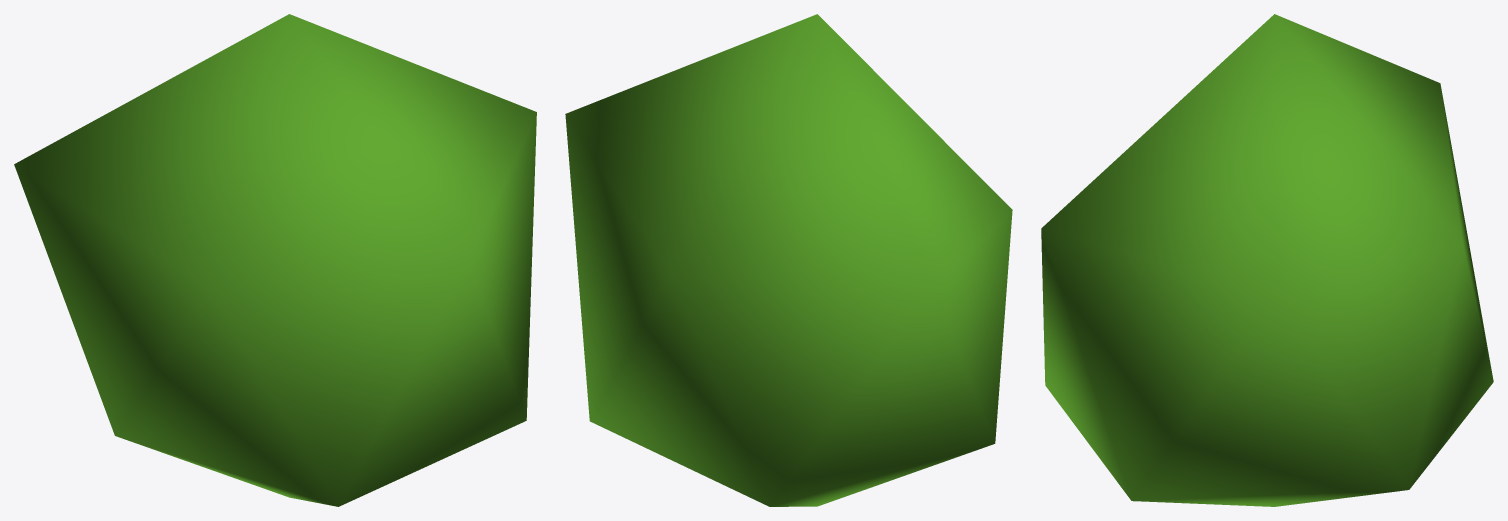
Rendered from cursed_flame.glb.
3 renders of one model, left to right at view 1: azimuth 30°, elevation 25°; view 2: azimuth 150°, elevation 25°; view 3: azimuth 270°, elevation 25°, orthographic.
Parts seen in each view (by area): view 1: cursed_flame_v0; view 2: cursed_flame_v0; view 3: cursed_flame_v0.
Boxes of the visible parts, x1,y1,x2,y2 form: cursed_flame_v0: [14, 14, 536, 506]; cursed_flame_v0: [565, 14, 1012, 506]; cursed_flame_v0: [1041, 14, 1493, 506].
Bounding box in the file's own units: 0.1977 × 0.2069 × 0.1721.
